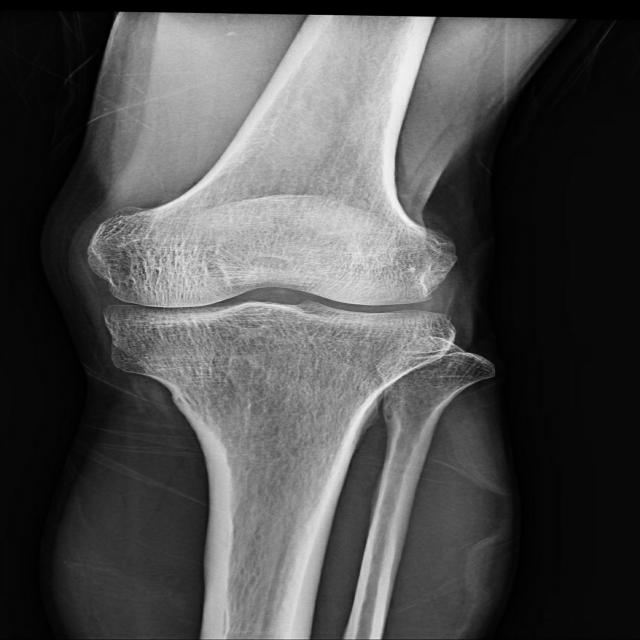osteo: (81, 203, 471, 352)
